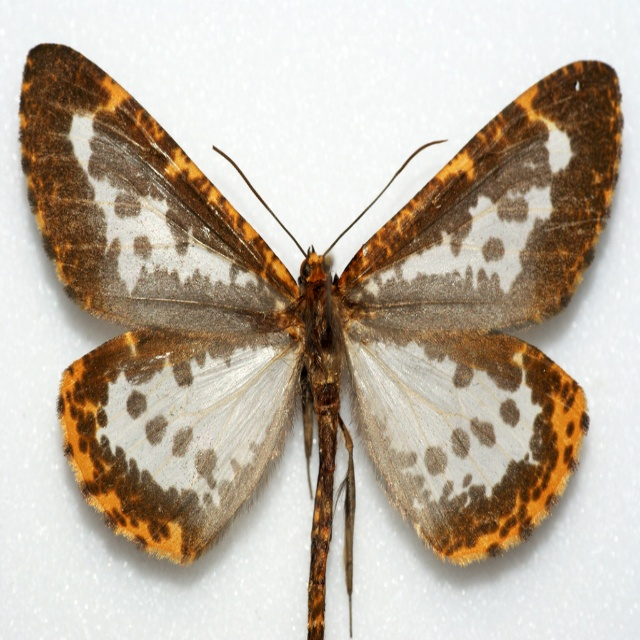Butterfly: (58, 45, 609, 640)
